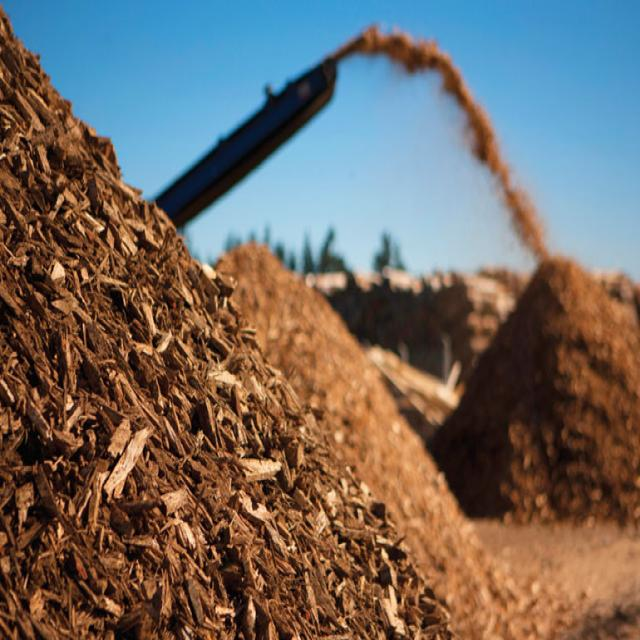green waste: (5, 3, 640, 640)
